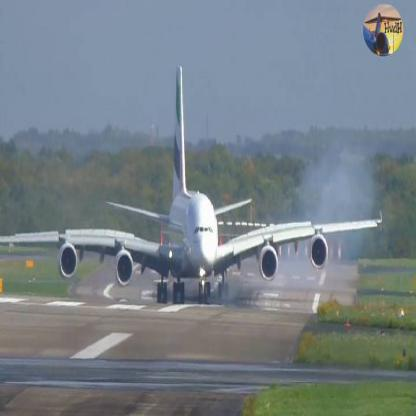CIV_Plane: (5, 62, 388, 318)
